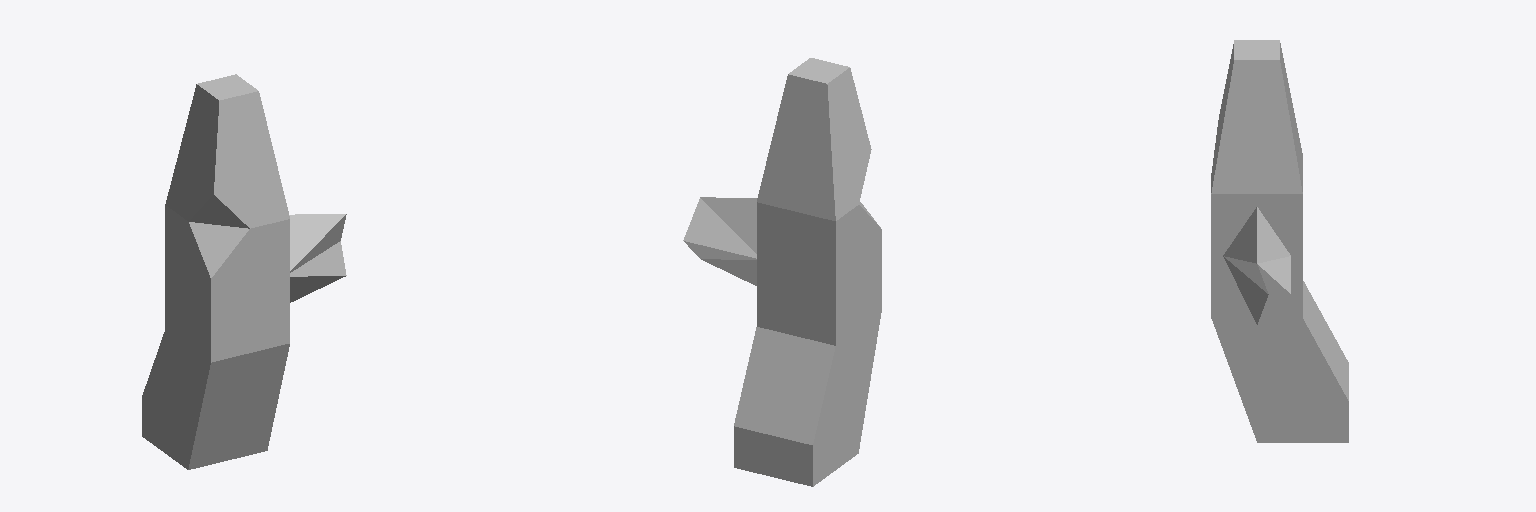
The model's file is Level1_catus_2.obj.
3 views of the same model, side by side, from view 1: azimuth 30°, elevation 25°; view 2: azimuth 150°, elevation 25°; view 3: azimuth 270°, elevation 25° (orthographic).
Parts seen in each view (by area): view 1: Cactus_2; view 2: Cactus_2; view 3: Cactus_2.
Part boxes in pixels (x1,y1,x2,y2): Cactus_2: (142,74,346,469); Cactus_2: (683,58,881,486); Cactus_2: (1211,40,1348,442).
Size of the model in its own units: 4 by 9 by 3.